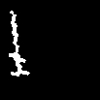double_crochet: (9, 11, 28, 75)
